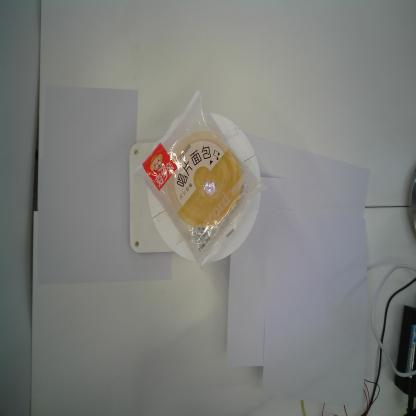Dessert: (131, 89, 266, 272)
